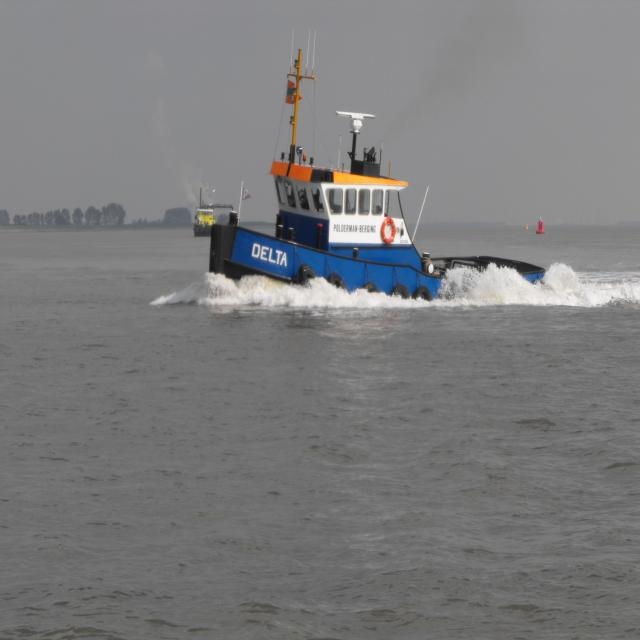houseboat: (214, 132, 552, 305), (187, 186, 220, 235)
